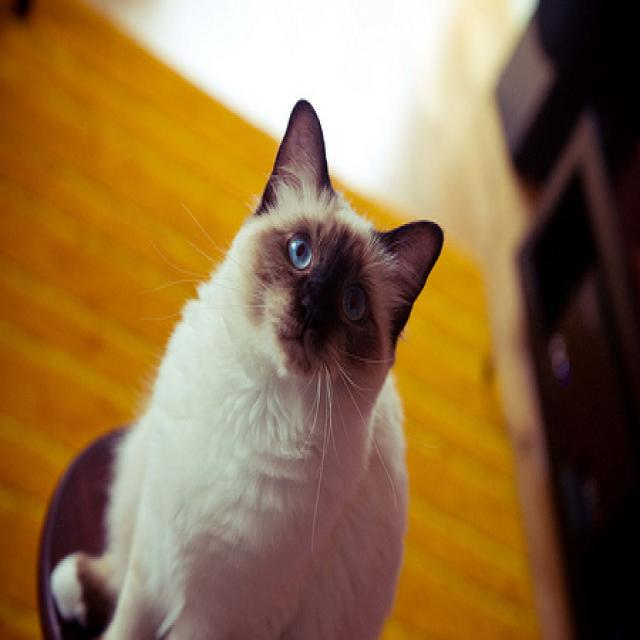Birman: (44, 94, 447, 640)
